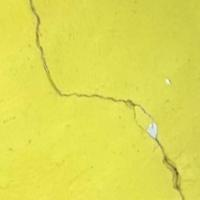crack: (23, 1, 184, 199)
